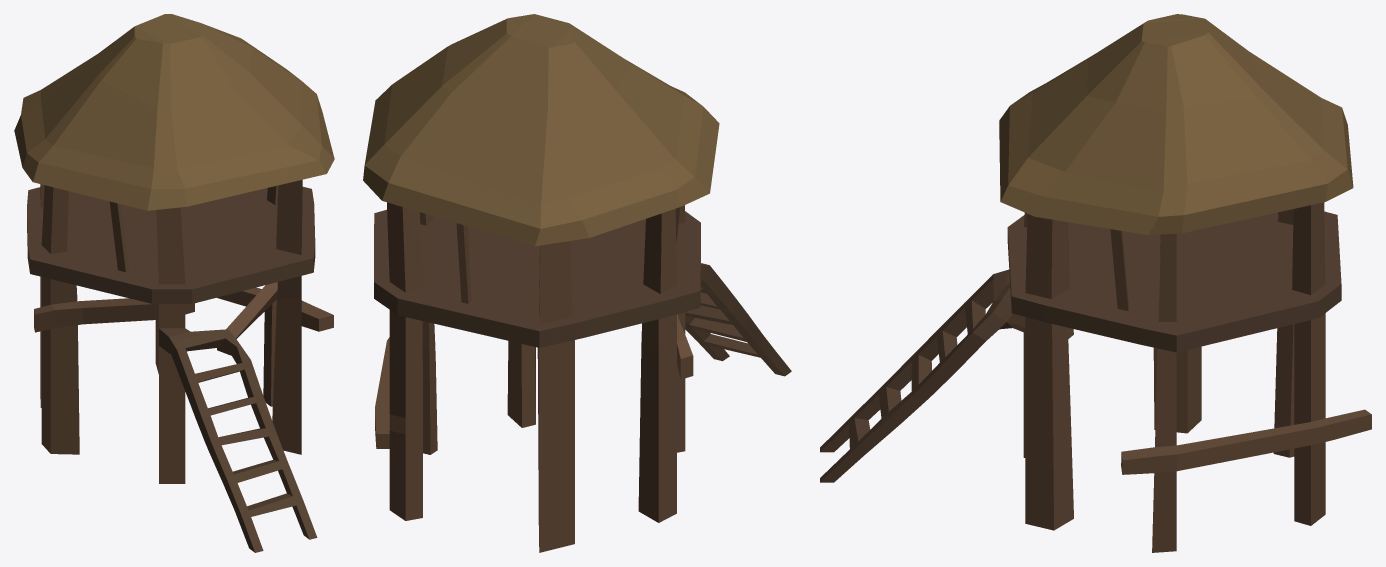
Rendered from NativeHouse2.fbx.
The picture shows the model from 3 angles, left to right: view 1: azimuth 30°, elevation 25°; view 2: azimuth 150°, elevation 25°; view 3: azimuth 270°, elevation 25°; orthographic projection. The views are drawn at different scales.
Parts seen in each view (by area): view 1: NativeHouse2; view 2: NativeHouse2; view 3: NativeHouse2.
Boxes of the visible parts, x1,y1,x2,y2 form: NativeHouse2: [14, 14, 334, 552]; NativeHouse2: [363, 14, 791, 552]; NativeHouse2: [820, 14, 1371, 552].
Bounding box in the file's own units: 89.92 × 120 × 130.
